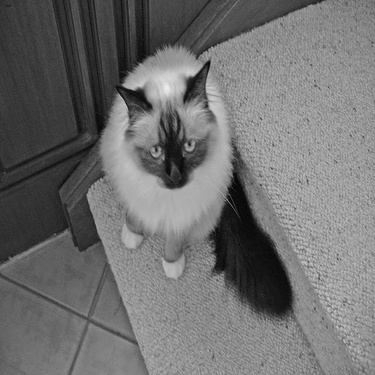cat: (104, 40, 295, 318)
